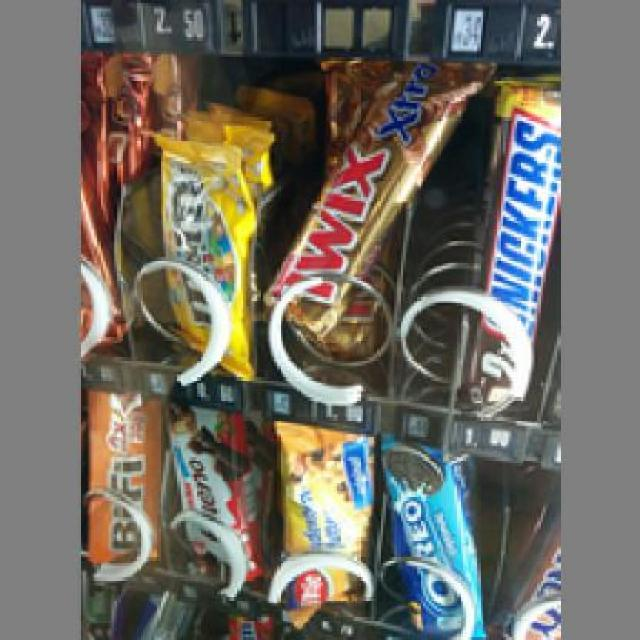Chocolate: (262, 66, 468, 332), (462, 80, 558, 406), (142, 132, 258, 374), (266, 417, 372, 617), (377, 437, 480, 637), (160, 402, 254, 578)
